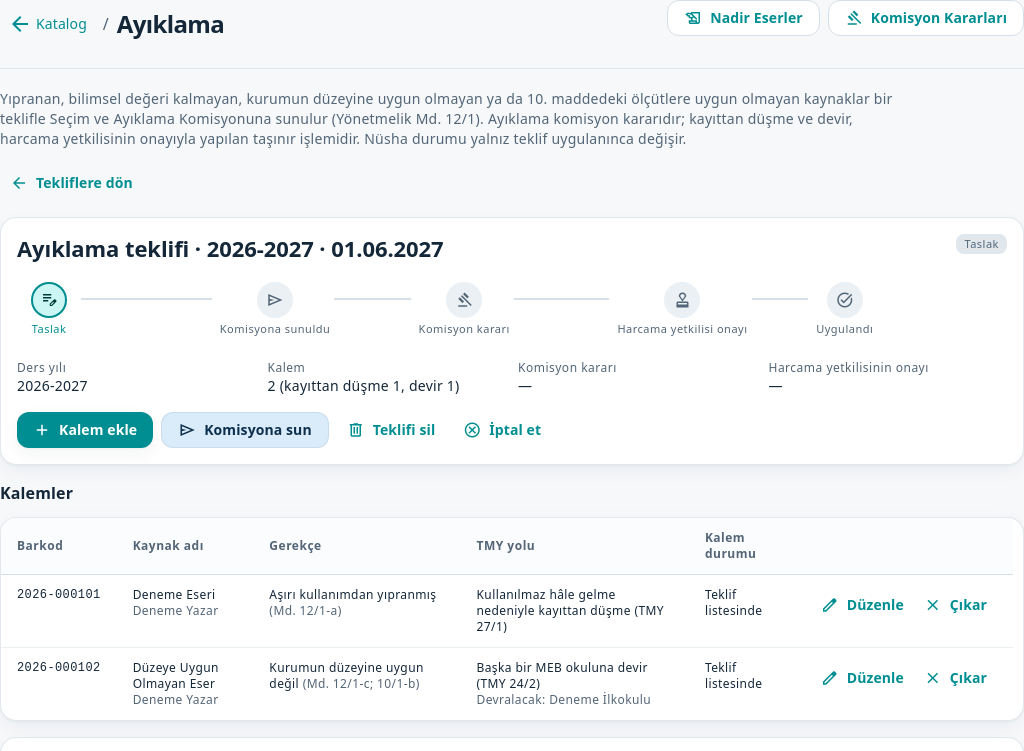
Test: AyiklamaPage — taslak teklif › taslakta kalemi düzenle
Click the button with aria-label "Deneme Eseri kalemini düzenle" at (862, 605), box [811, 587, 914, 623]
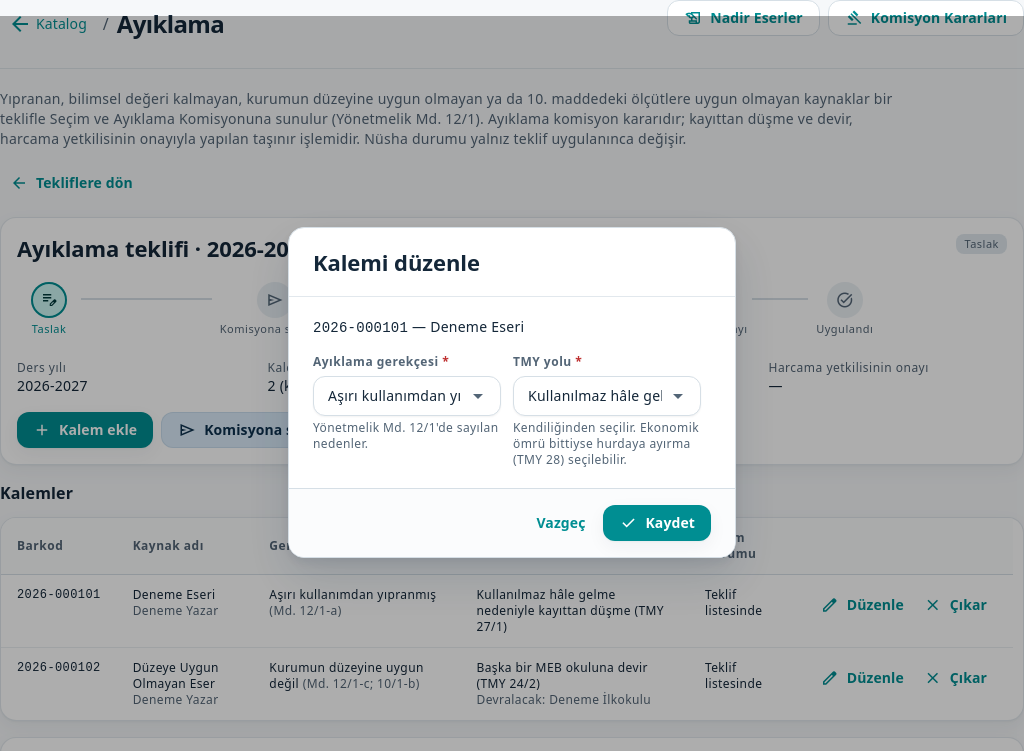
Select "Hurdaya ayırma nedeniyle kayıttan düşme (TMY 28)" in the dropdown labelled "TMY yolu *" at (595, 396), box [524, 386, 666, 406]
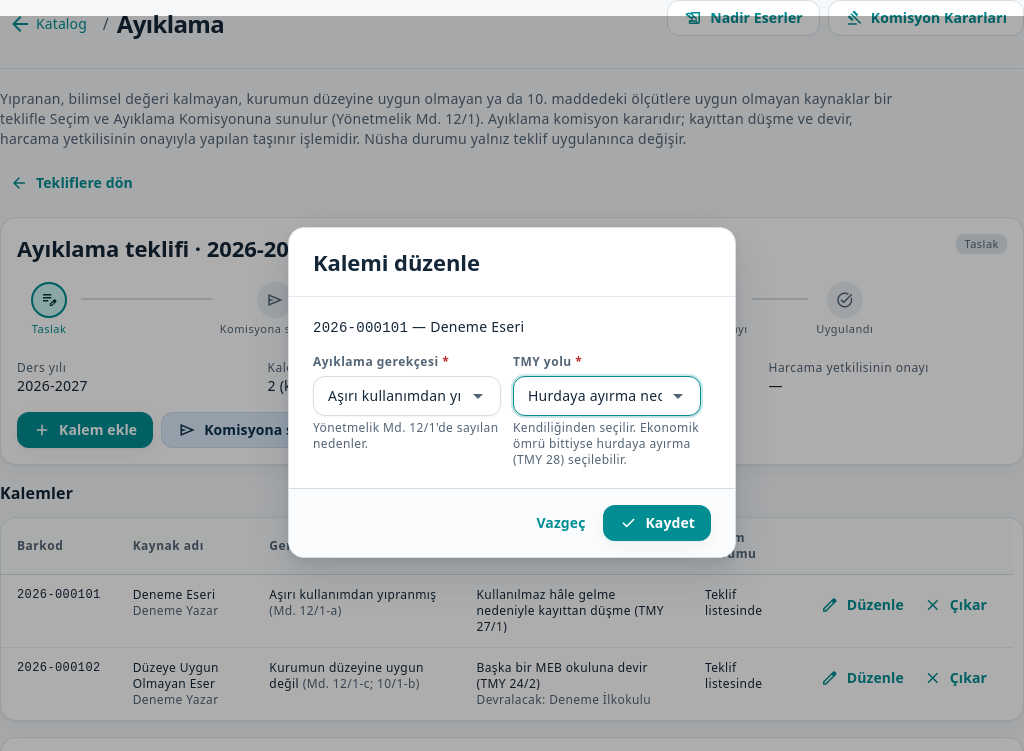
Click the button "Kaydet" at (657, 522), box [604, 504, 711, 540]
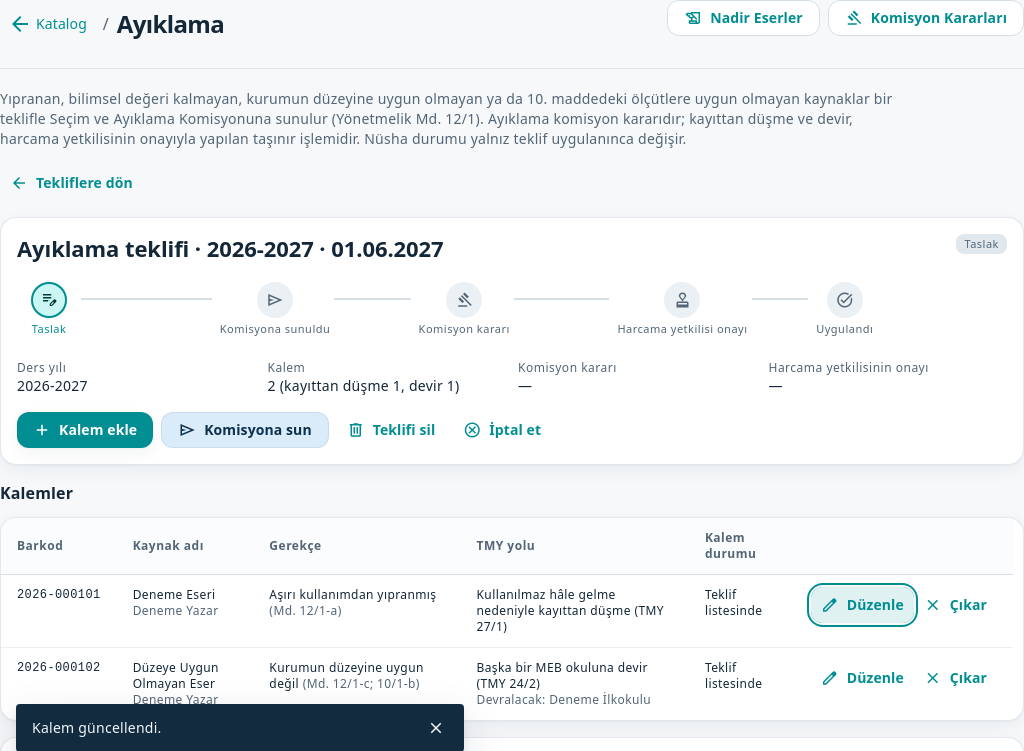
Now the text "Kalem güncellendi." is shown, box [32, 718, 162, 737]
